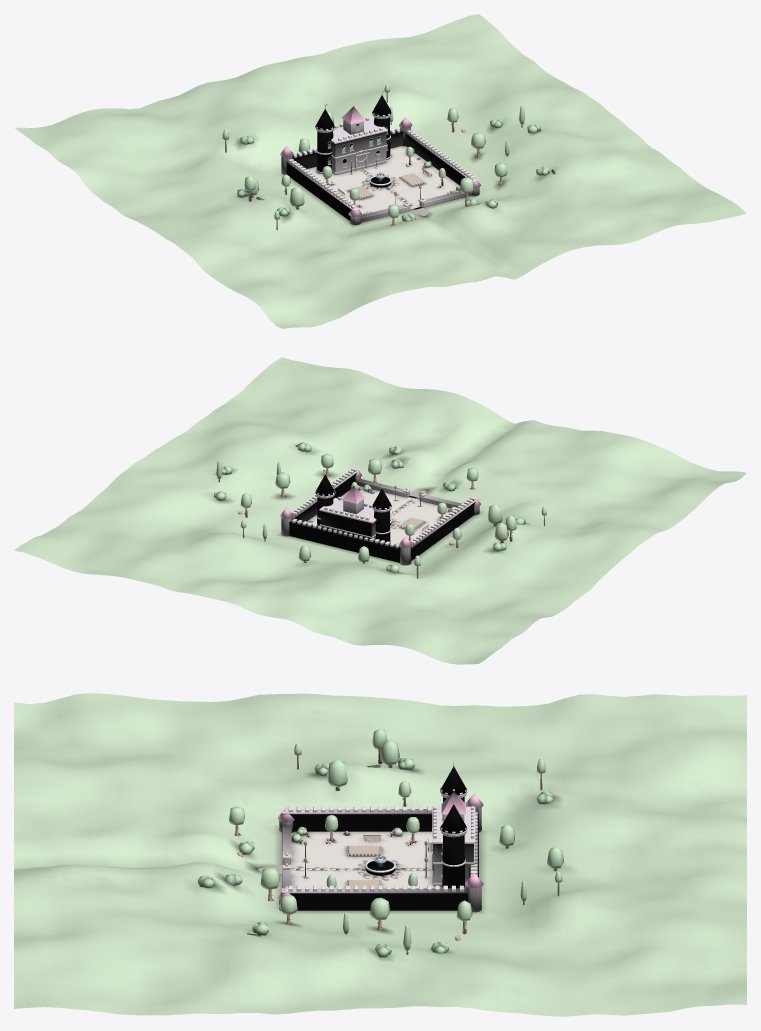
The model's file is env-castle.glb.
3 renders of one model, top to bottom at view 1: azimuth 30°, elevation 25°; view 2: azimuth 150°, elevation 25°; view 3: azimuth 270°, elevation 25°, orthographic. The views are drawn at different scales.
Visible parts, largest first — view 1: static_grass, static_stone, static_yard, static_leaf, static_trim, static_roof; view 2: static_grass, static_stone, static_leaf, static_yard, static_trim, static_roof; view 3: static_grass, static_stone, static_leaf, static_yard, static_trim, static_roof, static_trunk, static_leaf2, static_soil.
Boxes of the visible parts, x1=… form: static_grass: x1=14, y1=14, x2=746, y2=328; static_stone: x1=281, y1=109, x2=479, y2=225; static_yard: x1=306, y1=145, x2=459, y2=214; static_leaf: x1=222, y1=84, x2=549, y2=221; static_trim: x1=285, y1=111, x2=478, y2=218; static_roof: x1=280, y1=90, x2=480, y2=216; static_grass: x1=14, y1=357, x2=746, y2=664; static_stone: x1=281, y1=468, x2=479, y2=565; static_leaf: x1=213, y1=443, x2=546, y2=572; static_yard: x1=307, y1=486, x2=450, y2=544; static_trim: x1=288, y1=469, x2=478, y2=550; static_roof: x1=280, y1=467, x2=480, y2=547; static_grass: x1=14, y1=693, x2=746, y2=1016; static_stone: x1=279, y1=786, x2=481, y2=912; static_leaf: x1=198, y1=728, x2=563, y2=954; static_yard: x1=290, y1=831, x2=466, y2=888; static_trim: x1=282, y1=788, x2=478, y2=893; static_roof: x1=277, y1=761, x2=483, y2=900; static_trunk: x1=234, y1=749, x2=559, y2=954; static_leaf2: x1=202, y1=758, x2=546, y2=957; static_soil: x1=348, y1=846, x2=379, y2=888.
Bounding box in the file's own units: 90 × 12.5 × 90.
